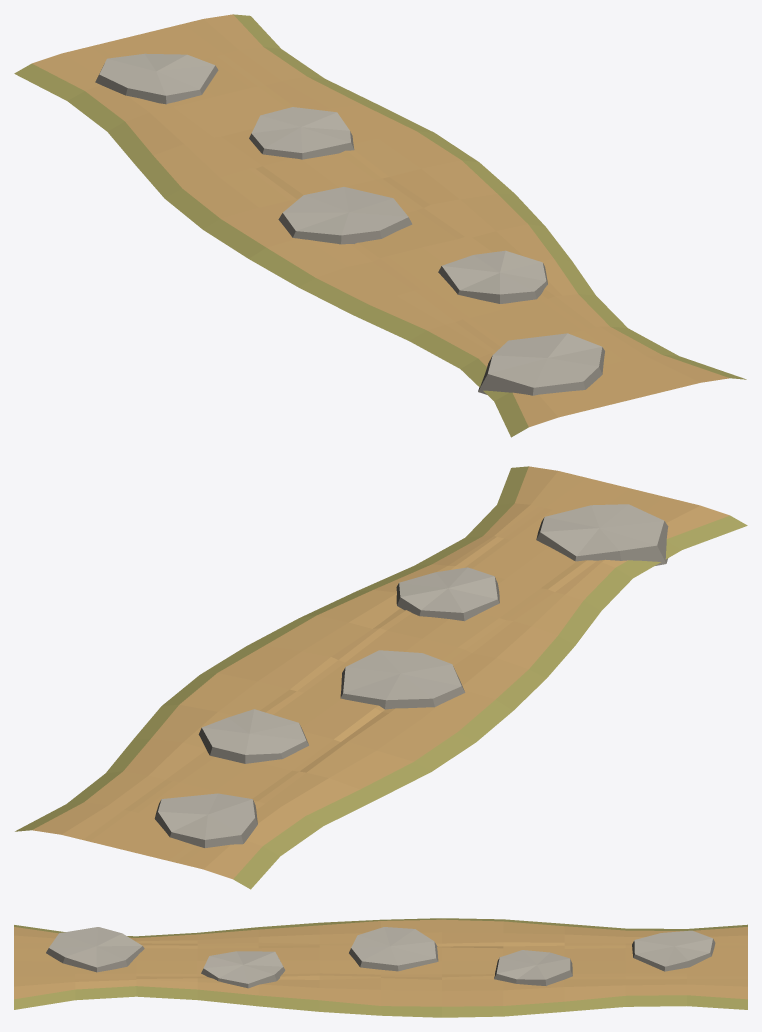
The model's file is Path_StepStones.fbx.
3 views of the same model, one above another, from view 1: azimuth 30°, elevation 25°; view 2: azimuth 150°, elevation 25°; view 3: azimuth 270°, elevation 25° (orthographic). The views are drawn at different scales.
Visible parts, largest first — view 1: Path_StepStones; view 2: Path_StepStones; view 3: Path_StepStones.
Boxes of the visible parts, left/top/right/bottom form: Path_StepStones: left=14, top=14, right=746, bottom=437; Path_StepStones: left=15, top=466, right=747, bottom=889; Path_StepStones: left=14, top=918, right=747, bottom=1017.
Size of the model in its own units: 1.28 by 0.0843 by 4.
